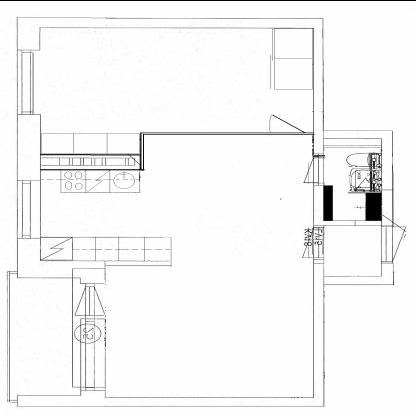door: (71, 280, 112, 317), (374, 223, 408, 266), (265, 112, 309, 140), (298, 226, 328, 262), (300, 154, 328, 188)
window: (70, 318, 110, 394), (12, 46, 45, 118), (13, 177, 43, 239)
